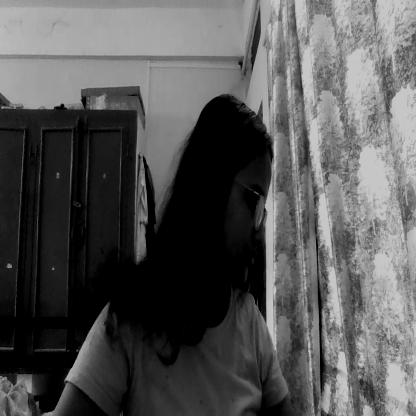Distracted: (193, 116, 268, 285)
